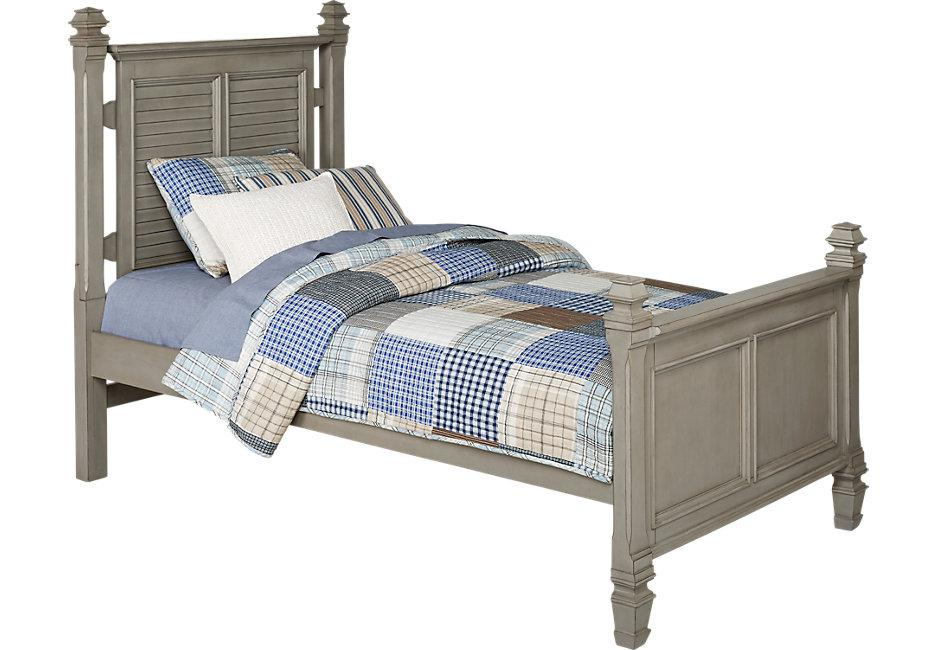bed: (46, 5, 883, 644)
